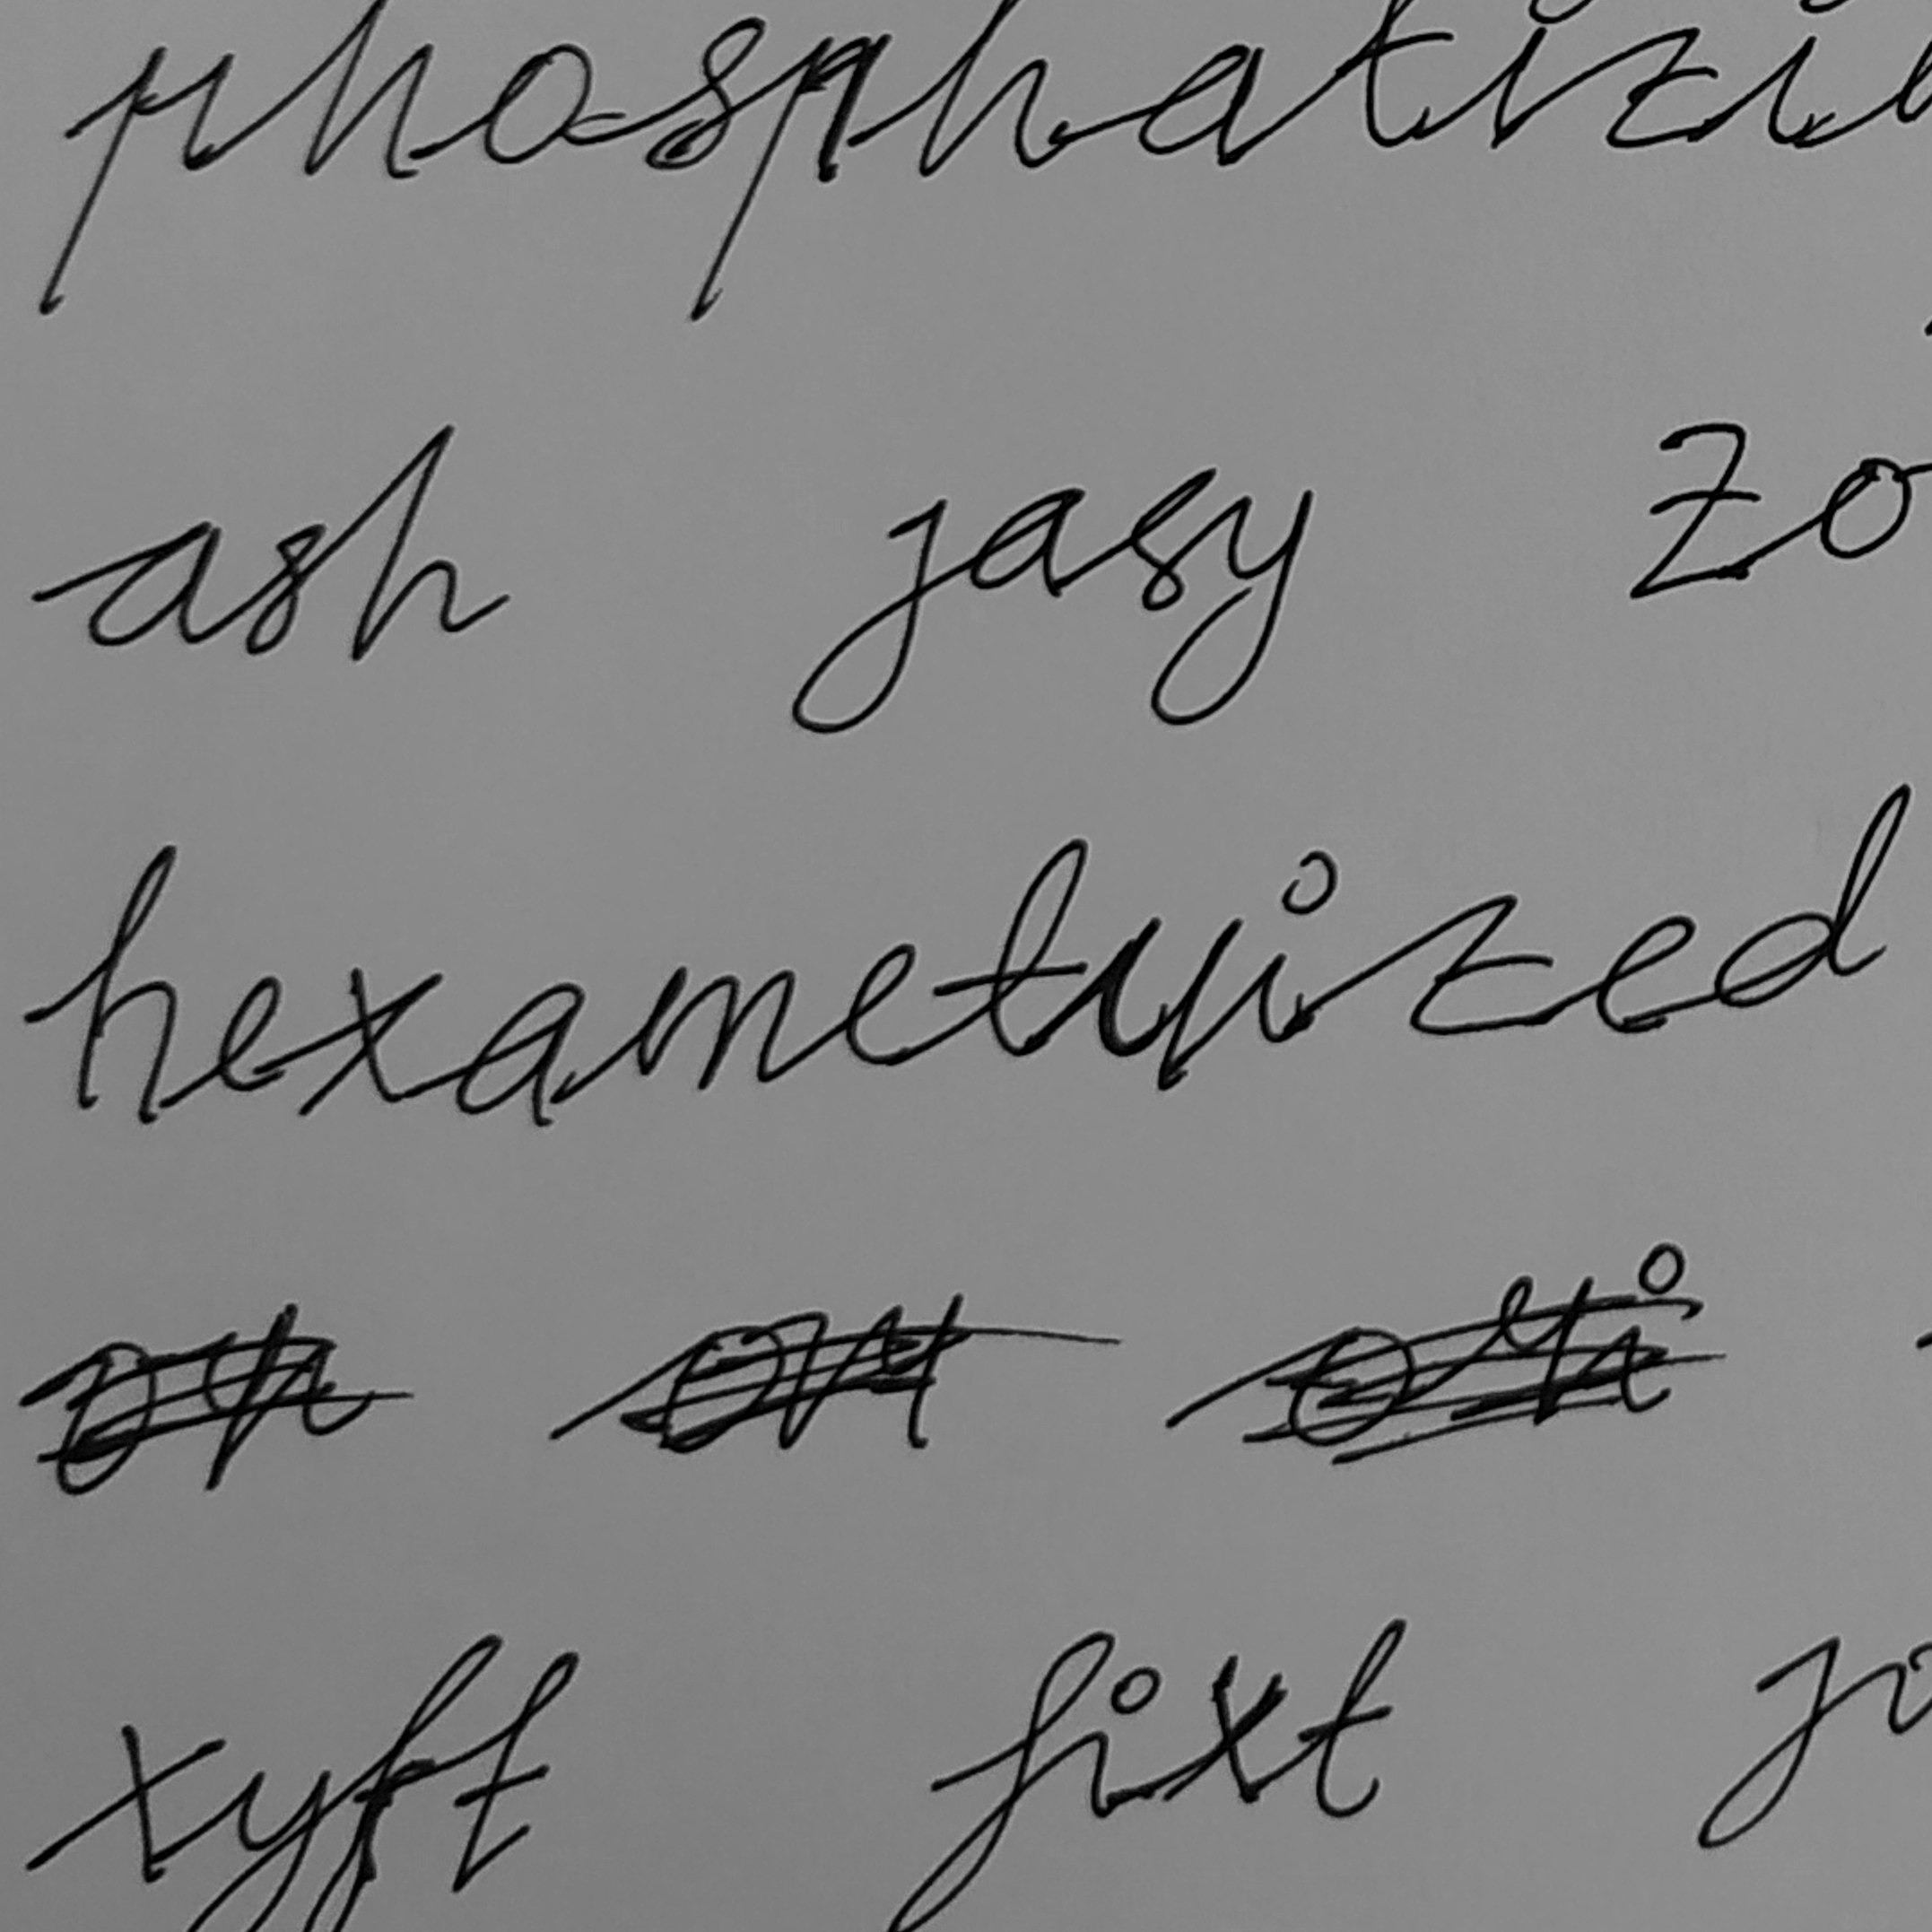a: (455, 977, 591, 1131)
d: (1709, 780, 1914, 1014)
e: (1594, 909, 1700, 1039), (840, 939, 924, 1069), (214, 971, 294, 1097)
h: (73, 840, 180, 1127)
i: (1251, 846, 1343, 1047)
m: (632, 959, 800, 1093)
r: (1093, 909, 1246, 1093)
t: (929, 835, 1090, 1062)
x: (297, 962, 444, 1120)
z: (1405, 890, 1559, 1042)
